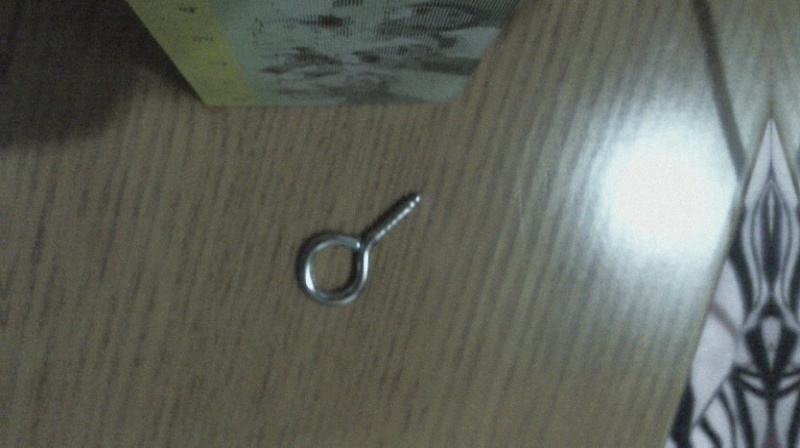O001: (291, 186, 426, 309)
